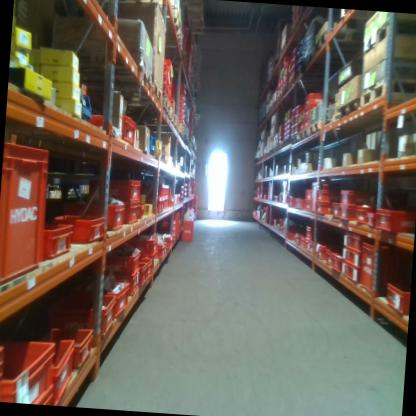pallet: (43, 50, 151, 115), (363, 15, 416, 61), (359, 75, 416, 113), (316, 27, 363, 60), (166, 2, 185, 48), (334, 96, 359, 125), (147, 78, 163, 115), (152, 96, 172, 123), (162, 107, 181, 135), (307, 118, 324, 140), (175, 122, 188, 143), (337, 9, 357, 22), (289, 130, 298, 149), (299, 126, 308, 143)
small_load_carrier: (0, 145, 49, 279), (3, 339, 56, 404), (59, 291, 117, 341), (39, 323, 93, 361), (50, 212, 104, 249), (360, 244, 396, 292), (86, 115, 139, 143), (96, 245, 142, 277), (51, 340, 74, 403), (44, 218, 74, 264), (93, 177, 142, 204), (75, 202, 126, 227), (86, 281, 128, 310), (95, 269, 140, 295), (375, 209, 415, 232), (385, 281, 410, 316), (311, 182, 333, 213), (342, 189, 377, 208), (128, 234, 158, 256), (338, 202, 363, 224), (342, 233, 369, 253), (341, 247, 366, 268), (342, 262, 364, 285), (138, 254, 152, 287), (125, 203, 142, 228), (316, 186, 340, 203), (316, 241, 335, 262), (305, 225, 328, 242), (355, 203, 370, 225), (314, 200, 332, 218), (365, 209, 381, 228), (327, 246, 342, 264), (181, 221, 194, 241), (304, 95, 330, 105), (331, 255, 342, 275), (137, 262, 146, 286), (302, 102, 315, 118), (331, 204, 342, 221), (305, 241, 318, 255), (157, 243, 166, 262), (303, 186, 316, 199), (41, 396, 54, 406), (301, 118, 311, 130), (304, 197, 314, 209), (295, 199, 305, 211), (157, 198, 164, 212), (166, 235, 173, 248), (300, 238, 307, 249)
